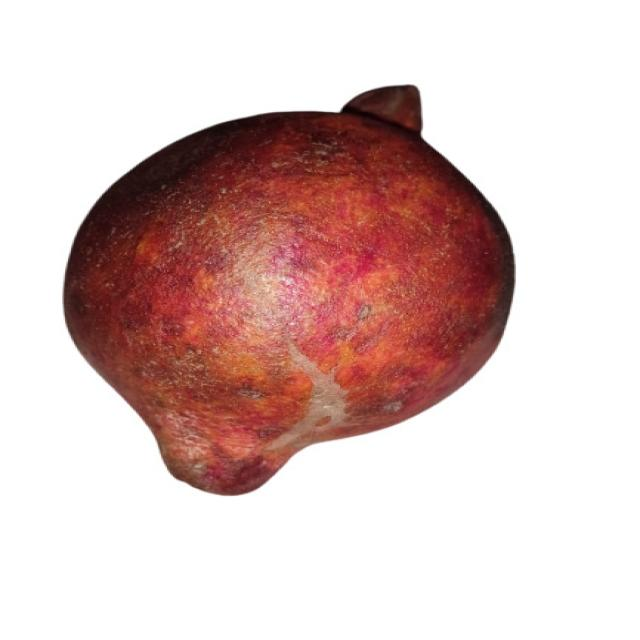Rotten: (57, 76, 522, 499)
